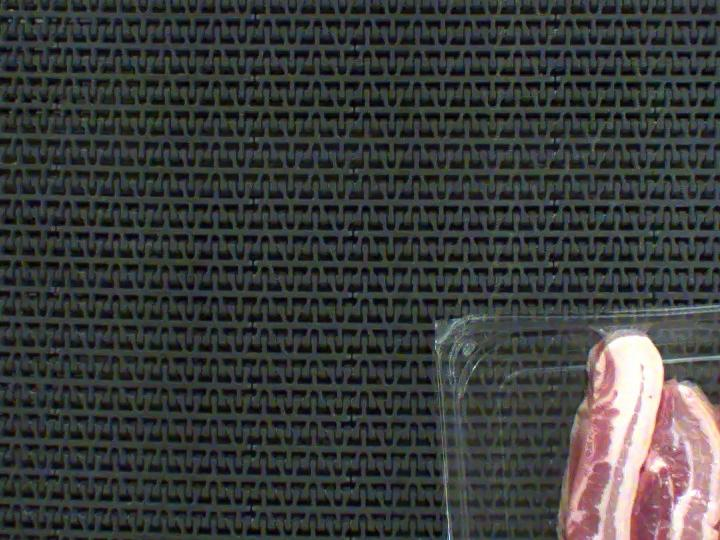packaging-error: (566, 238, 720, 387)
